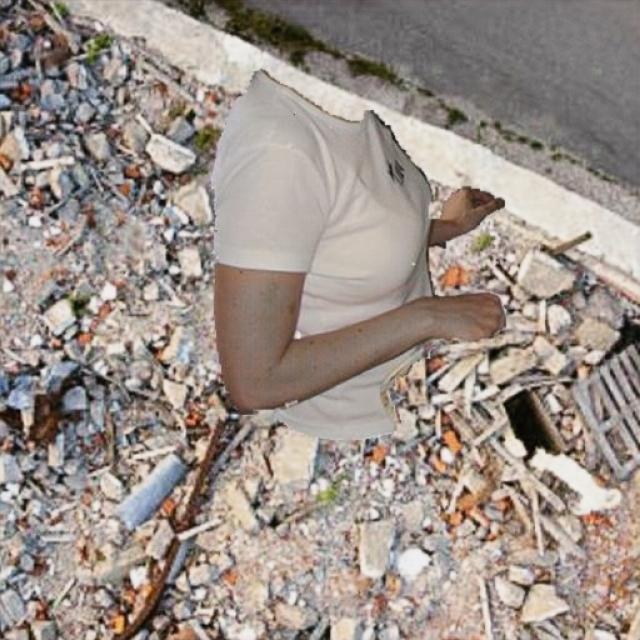Person in Rubble: (211, 69, 505, 439)
